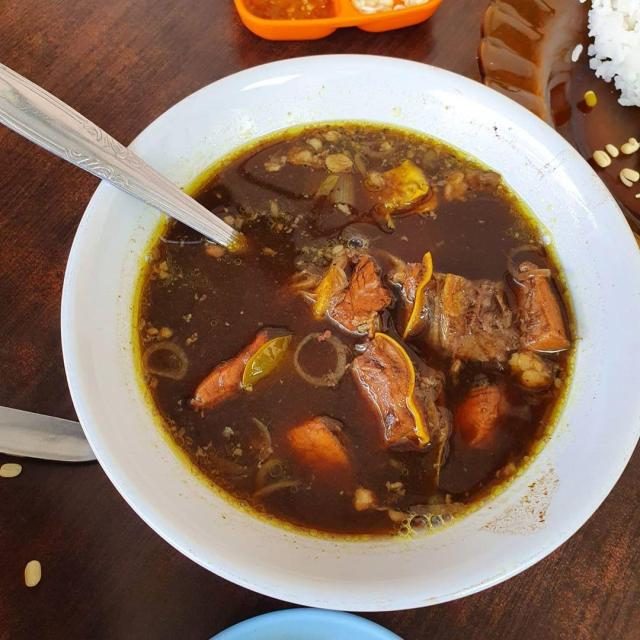Rawon: (167, 140, 528, 508)
